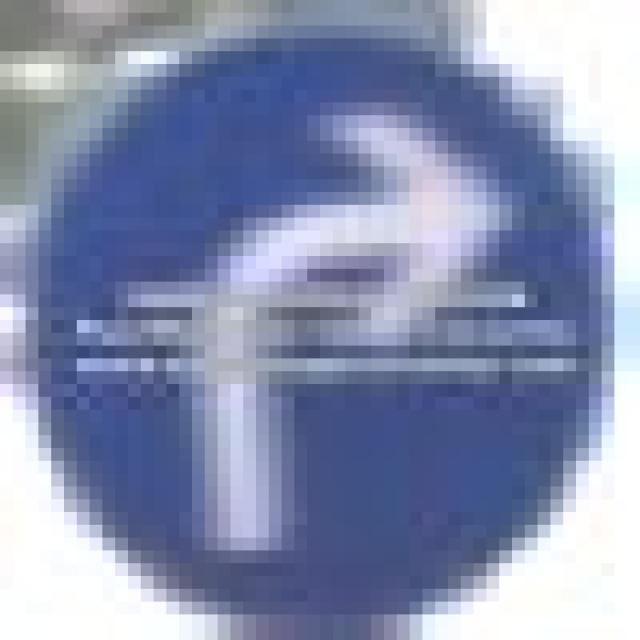TURN_RIGHT: (12, 13, 602, 589)
